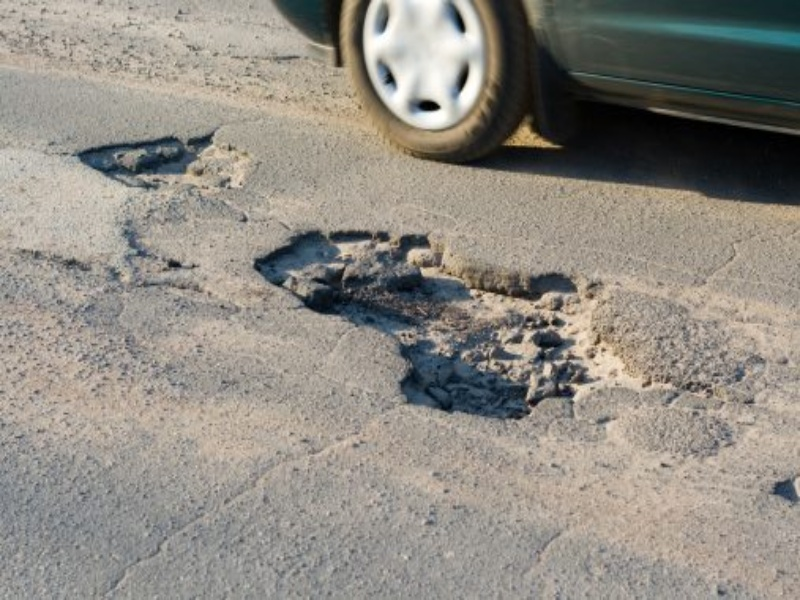pothole: (246, 223, 640, 414), (72, 131, 252, 200)
